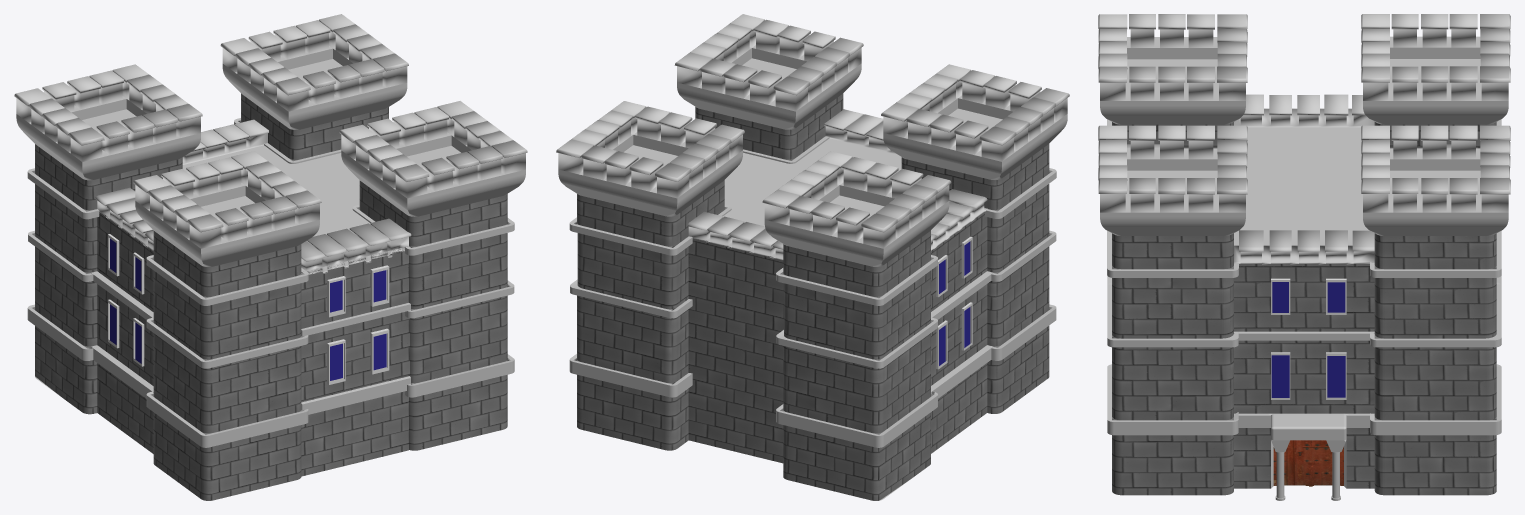
The model's file is castle.fbx.
3 renders of one model, left to right at view 1: azimuth 30°, elevation 25°; view 2: azimuth 150°, elevation 25°; view 3: azimuth 270°, elevation 25°, orthographic. The views are drawn at different scales.
Parts seen in each view (by area): view 1: Cube.005; view 2: Cube.005; view 3: Cube.005.
Boxes of the visible parts, bbox=[...] form: Cube.005: bbox=[14, 14, 527, 500]; Cube.005: bbox=[556, 14, 1069, 500]; Cube.005: bbox=[1098, 14, 1510, 500].
Size of the model in its own units: 1530 by 1241 by 1492.
